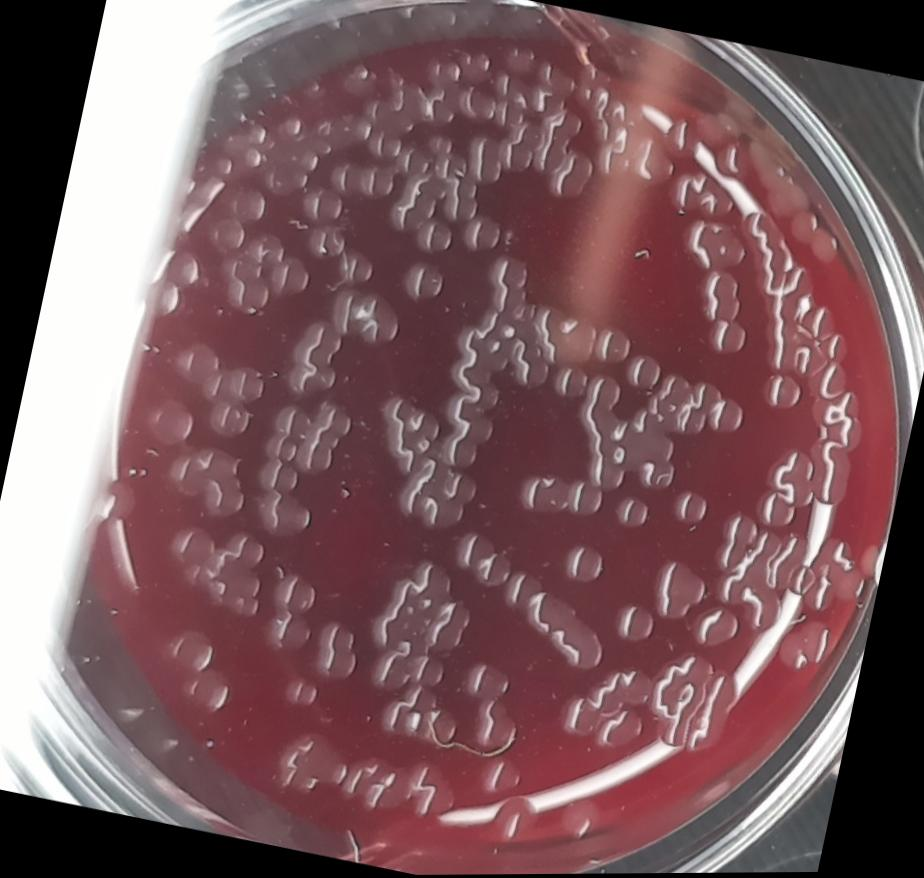vangil: (495, 568, 620, 676), (435, 326, 516, 473), (550, 655, 660, 763), (632, 366, 751, 452), (572, 373, 643, 494), (390, 455, 484, 540), (689, 268, 762, 361), (754, 443, 825, 535), (273, 722, 353, 801), (370, 387, 448, 465), (278, 316, 348, 400), (322, 283, 406, 351), (649, 552, 715, 628), (448, 528, 518, 592), (682, 216, 754, 277), (308, 616, 365, 684), (174, 662, 237, 720), (251, 491, 315, 547), (143, 391, 201, 452), (469, 695, 524, 757), (260, 400, 312, 465), (481, 254, 534, 317), (516, 466, 576, 520), (712, 511, 760, 575), (608, 595, 663, 649), (394, 255, 450, 308), (164, 623, 218, 677), (266, 568, 319, 621), (547, 148, 596, 205), (262, 610, 316, 660), (252, 454, 306, 504), (690, 602, 743, 651), (464, 133, 508, 188), (759, 368, 807, 417), (441, 175, 486, 227), (560, 541, 609, 588), (462, 660, 513, 704), (461, 211, 508, 256), (589, 324, 636, 369), (564, 476, 608, 522), (226, 183, 270, 228), (623, 350, 666, 396), (670, 485, 714, 529), (413, 217, 456, 259), (612, 490, 654, 532), (551, 362, 592, 404), (206, 214, 248, 255), (281, 672, 323, 713)
